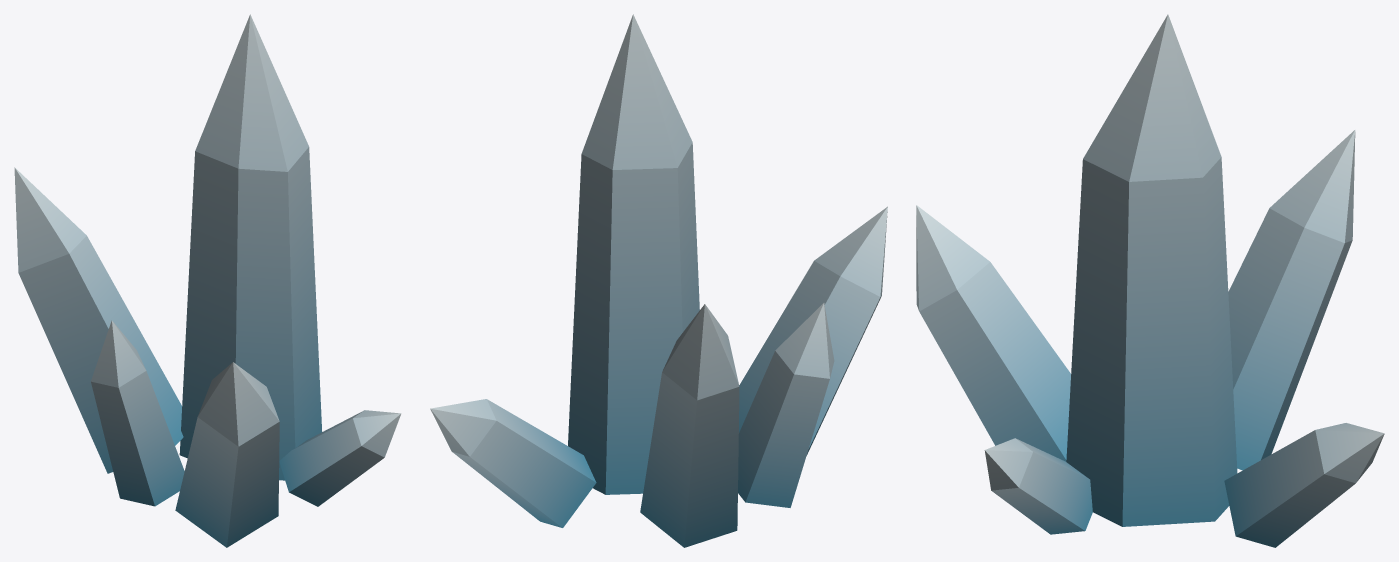
Rendered from east_shard.glb.
3 renders of one model, left to right at view 1: azimuth 30°, elevation 25°; view 2: azimuth 150°, elevation 25°; view 3: azimuth 270°, elevation 25°, orthographic. The views are drawn at different scales.
Visible parts, largest first — view 1: east_shard; view 2: east_shard; view 3: east_shard.
Part boxes in pixels (x1,y1,x2,y2): east_shard: [14, 14, 401, 547]; east_shard: [430, 14, 887, 547]; east_shard: [916, 14, 1384, 547].
Size of the model in its own units: 0.695 by 1.12 by 0.9205.
